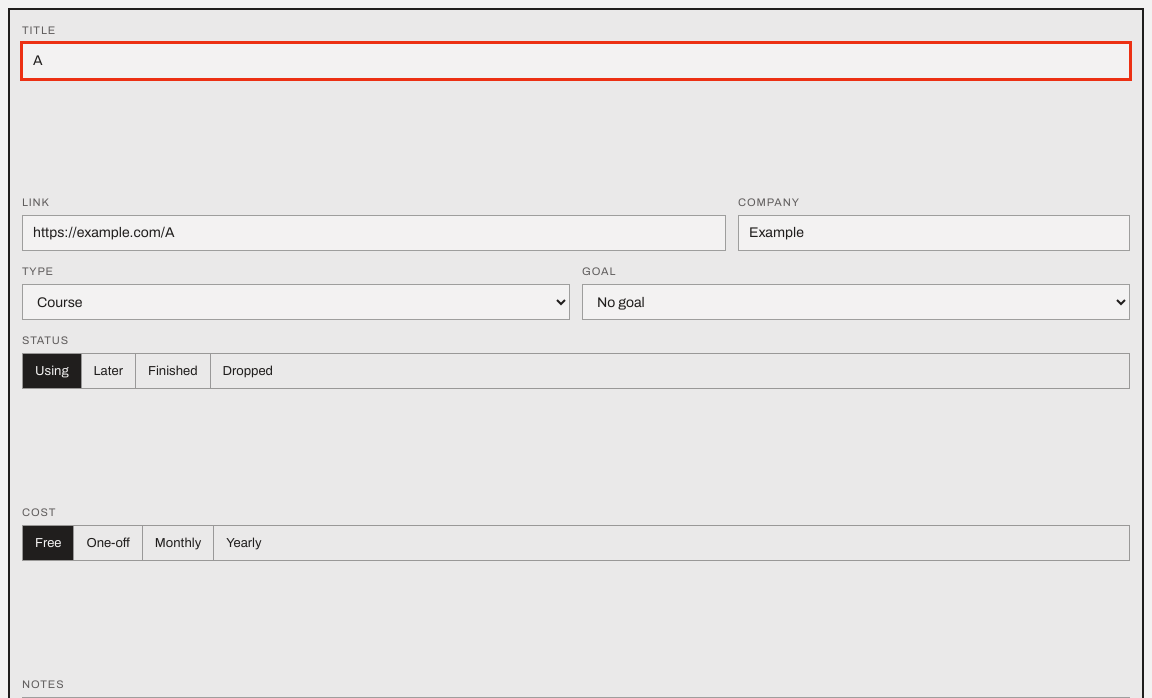
it: ResourceEditPanel › cannot save a paid cost without a positive price
Click the radio button labelled "Monthly": [178, 543] box [142, 526, 213, 560]
(page scrolled)
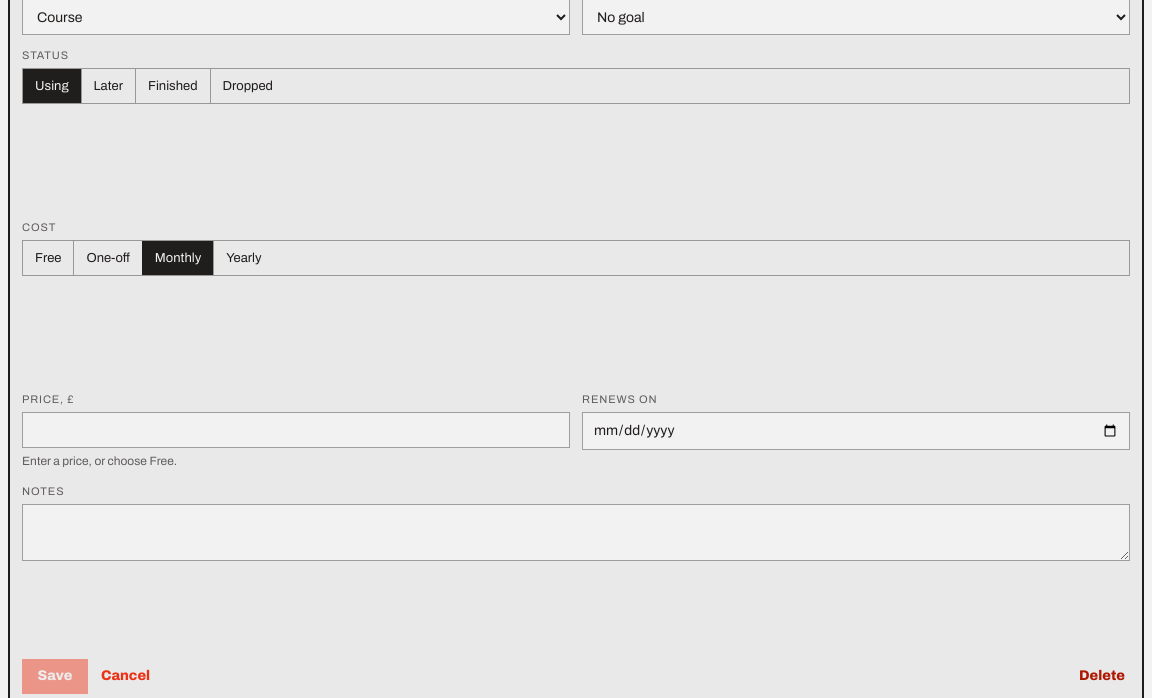
expect the button with class "re-save" is disabled: met, box [22, 659, 88, 694]
In the number field with class "re-price": [296, 430] box [22, 412, 570, 448], type "0"
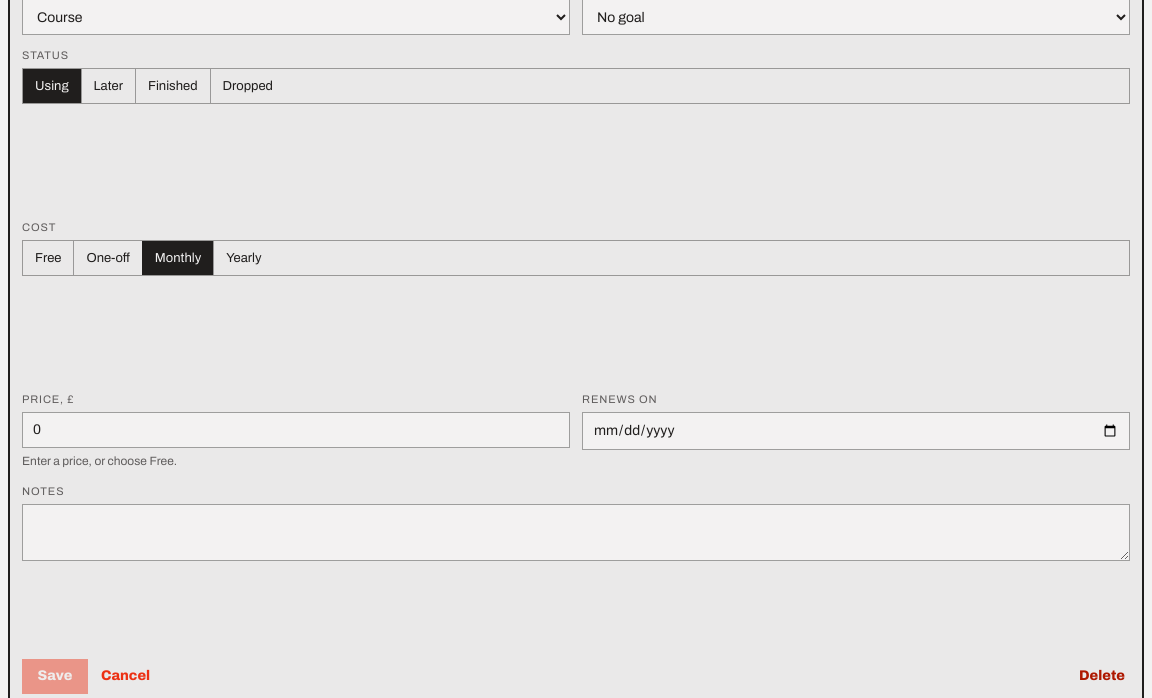
expect the button with class "re-save" is disabled: met, box [22, 659, 88, 694]
Replace the text in the number field with class "re-price" with "8": [296, 430] box [22, 412, 570, 448]
(page scrolled)
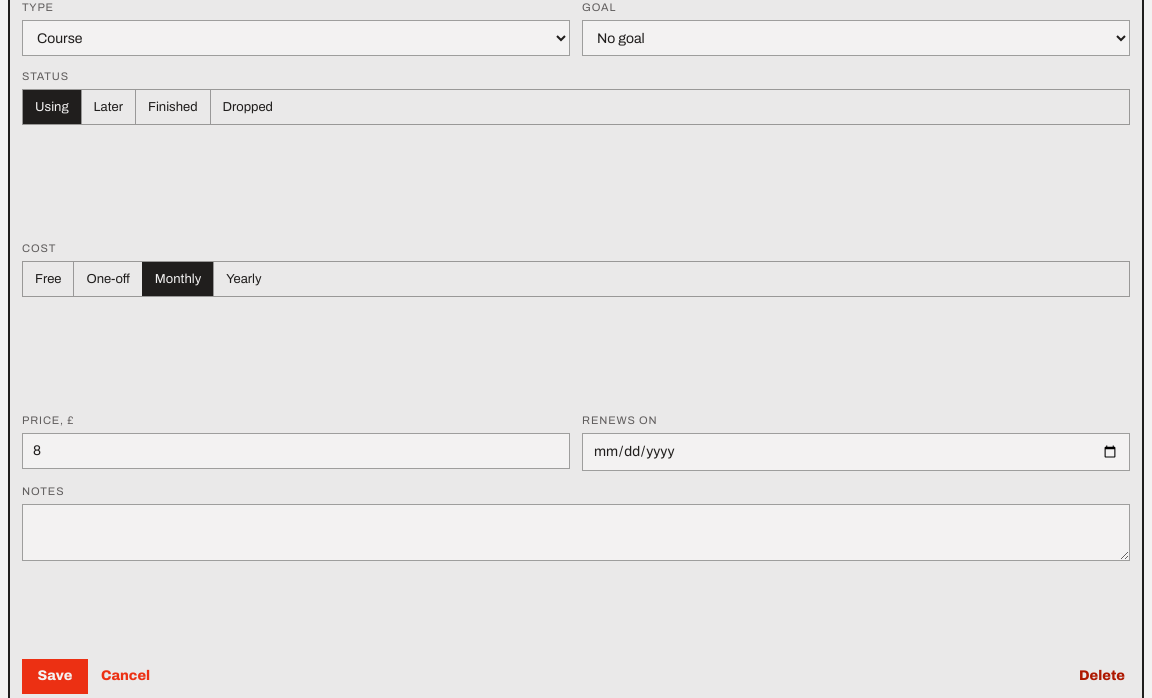
expect the button with class "re-save" is enabled: met, box [22, 659, 88, 694]
